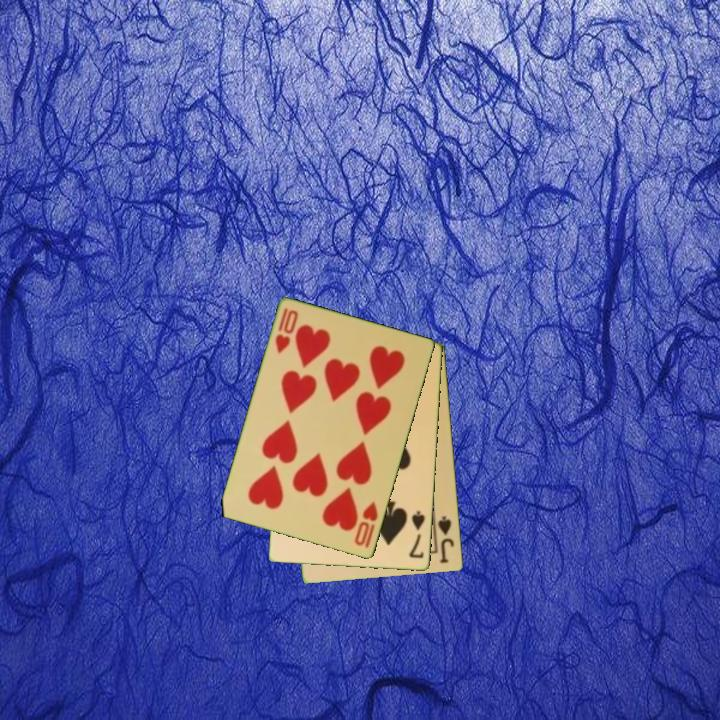10h: (351, 498, 381, 551), (272, 304, 301, 356)
7s: (406, 508, 428, 562)
Js: (434, 513, 457, 566)
